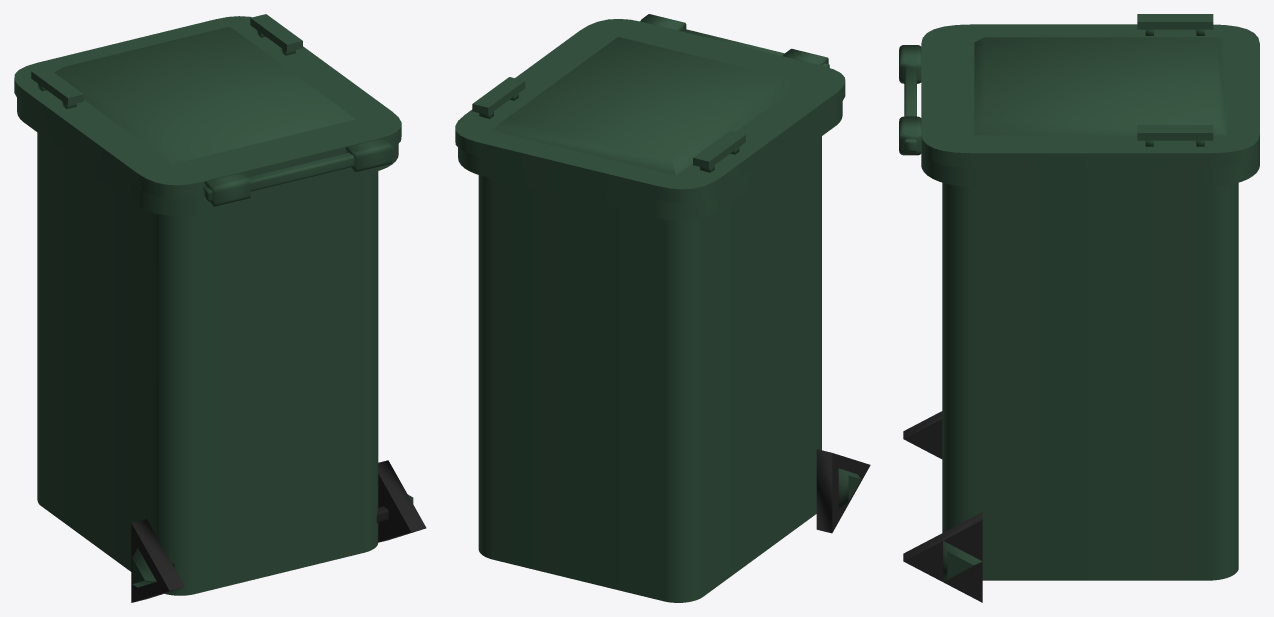
File: garbage.glb
3 views of the same model, side by side, from view 1: azimuth 30°, elevation 25°; view 2: azimuth 150°, elevation 25°; view 3: azimuth 270°, elevation 25° (orthographic). The views are drawn at different scales.
Parts seen in each view (by area): view 1: Sides (×2), Lid (×5), Wheel (×3), Handle (×2); view 2: Sides (×2), Lid (×2), Wheel (×2), Handle (×2); view 3: Sides (×2), Lid (×5), Wheel (×3), Handle (×2).
Boxes of the visible parts, bbox=[...] form: Sides (×2): bbox=[17, 98, 398, 595]; Lid (×5): bbox=[14, 16, 401, 206]; Wheel (×3): bbox=[131, 460, 426, 602]; Handle (×2): bbox=[31, 14, 302, 105]; Sides (×2): bbox=[458, 101, 842, 602]; Lid (×2): bbox=[455, 19, 845, 203]; Wheel (×2): bbox=[816, 449, 870, 533]; Handle (×2): bbox=[472, 77, 745, 168]; Sides (×2): bbox=[921, 149, 1259, 580]; Lid (×5): bbox=[899, 24, 1259, 167]; Wheel (×3): bbox=[903, 411, 982, 602]; Handle (×2): bbox=[1137, 14, 1213, 140].
Bounding box in the file's own units: 0.7712 × 1.21 × 0.8525.
